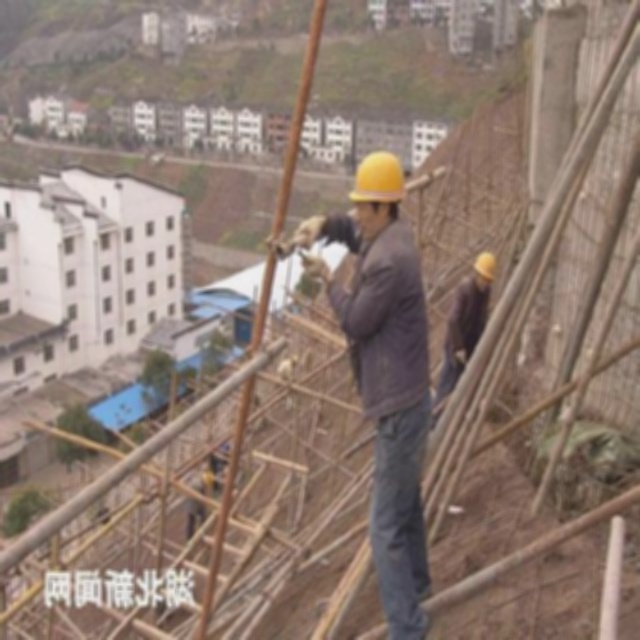Con_Casco: (346, 145, 407, 236), (472, 252, 498, 295)
